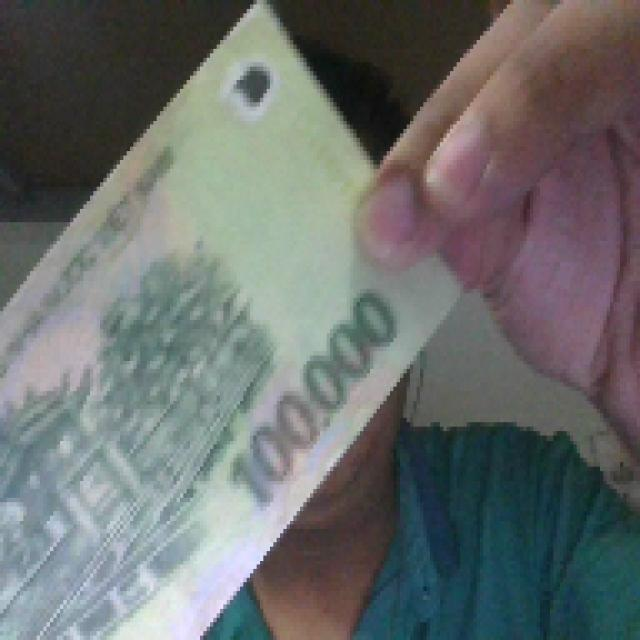100 000 VND: (0, 0, 470, 636)
